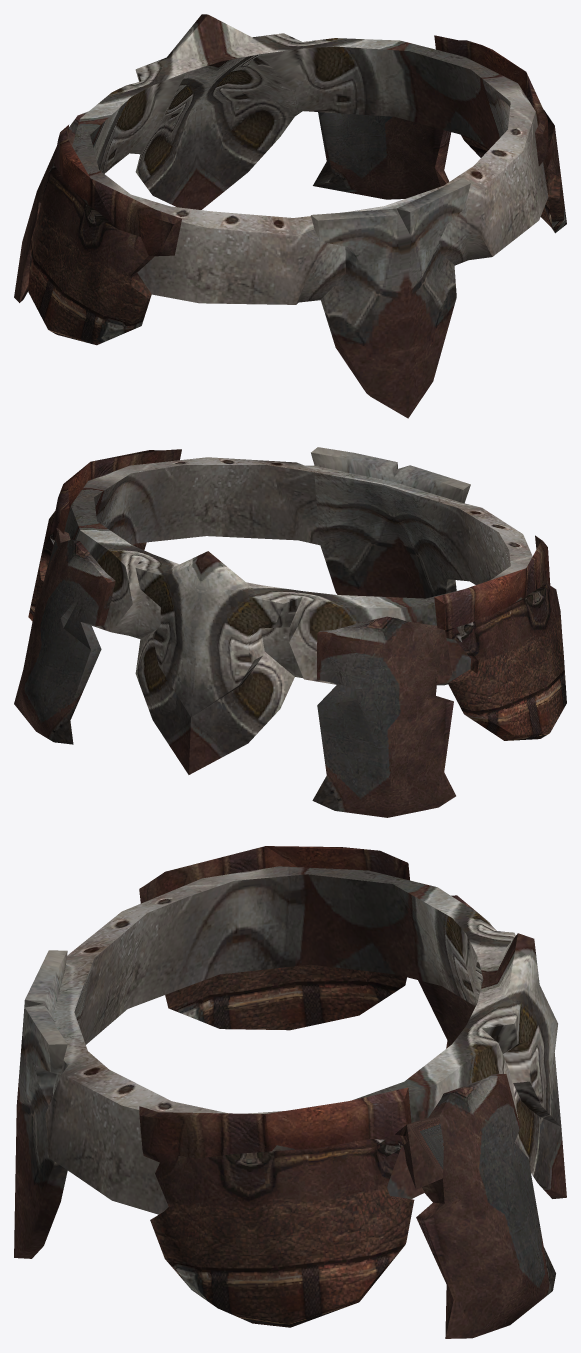
The model's file is NavarraBelt.fbx.
The picture shows the model from 3 angles, top to bottom: view 1: azimuth 30°, elevation 25°; view 2: azimuth 150°, elevation 25°; view 3: azimuth 270°, elevation 25°; orthographic projection. The views are drawn at different scales.
Parts seen in each view (by area): view 1: LV_Navarra_Object_Armor03_Belt_SM_KDK; view 2: LV_Navarra_Object_Armor03_Belt_SM_KDK; view 3: LV_Navarra_Object_Armor03_Belt_SM_KDK.
Boxes of the visible parts, box(x1,y1,x2,y2) form: LV_Navarra_Object_Armor03_Belt_SM_KDK: box(14, 14, 566, 418); LV_Navarra_Object_Armor03_Belt_SM_KDK: box(14, 447, 566, 817); LV_Navarra_Object_Armor03_Belt_SM_KDK: box(14, 846, 566, 1338).
Bounding box in the file's own units: 8.71 × 4.29 × 6.6.
